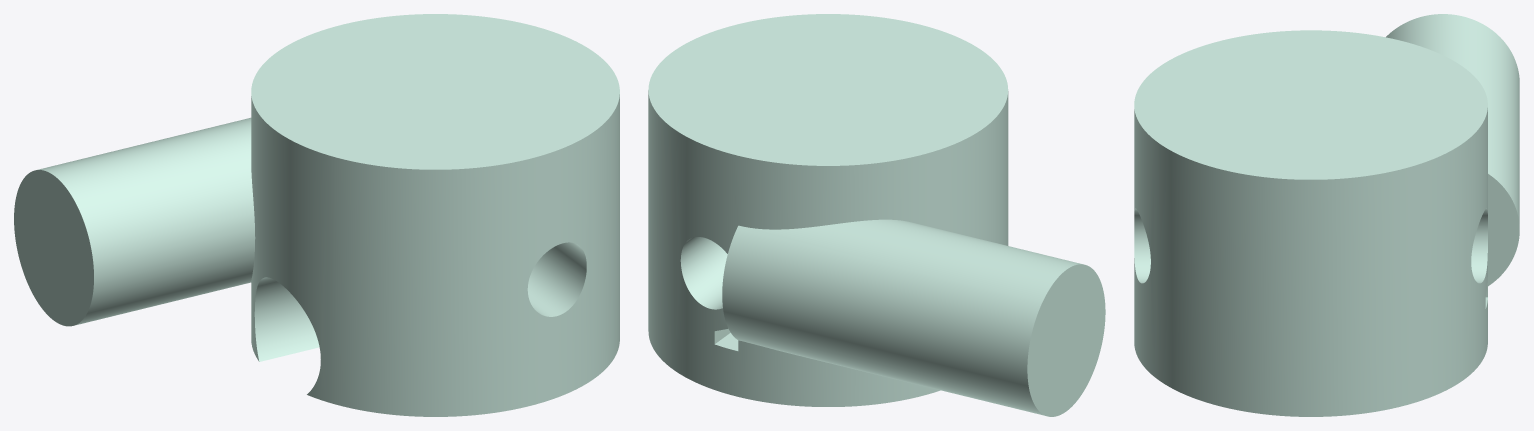
3 renders of one model, left to right at view 1: azimuth 30°, elevation 25°; view 2: azimuth 150°, elevation 25°; view 3: azimuth 270°, elevation 25°, orthographic. The views are drawn at different scales.
Parts seen in each view (by area): view 1: Renderer Node; view 2: Renderer Node; view 3: Renderer Node.
Part boxes in pixels (x1,y1,x2,y2): Renderer Node: [14, 14, 619, 416]; Renderer Node: [648, 14, 1105, 416]; Renderer Node: [1134, 14, 1519, 416].
Size of the model in its own units: 1.16 by 0.5781 by 0.8519.
